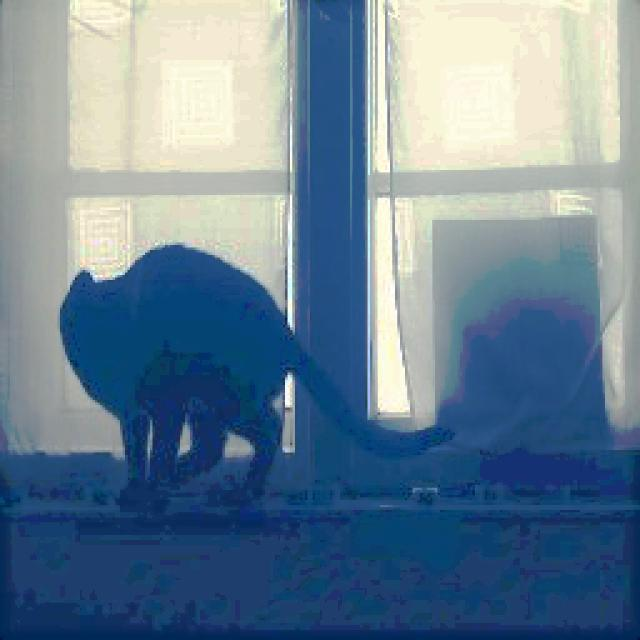cat: (37, 204, 458, 481)
